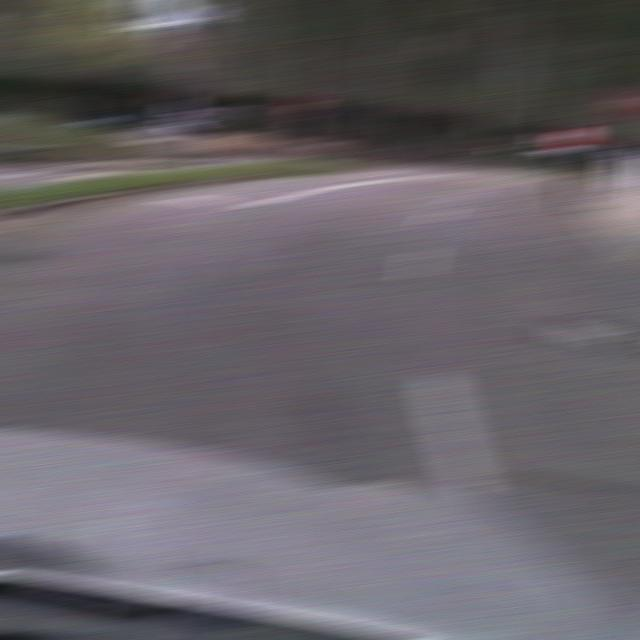stop: (605, 86, 640, 116), (284, 90, 320, 119)
